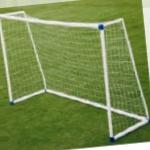goals: (1, 10, 150, 143)
